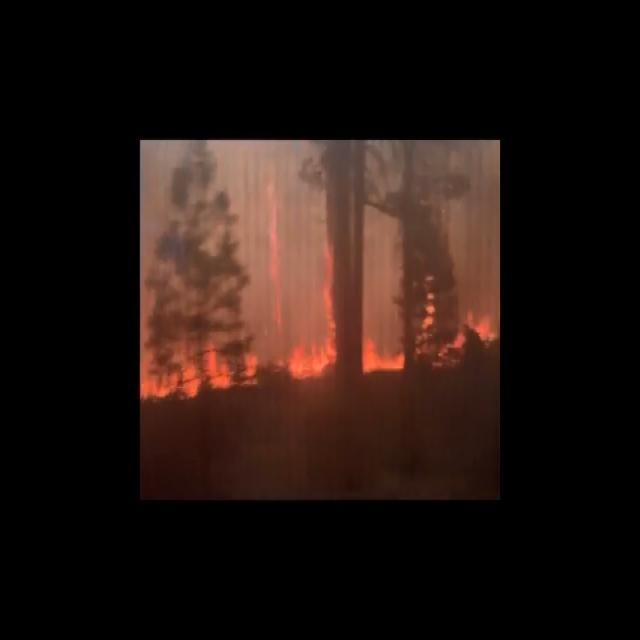Fire: (140, 192, 410, 406)
